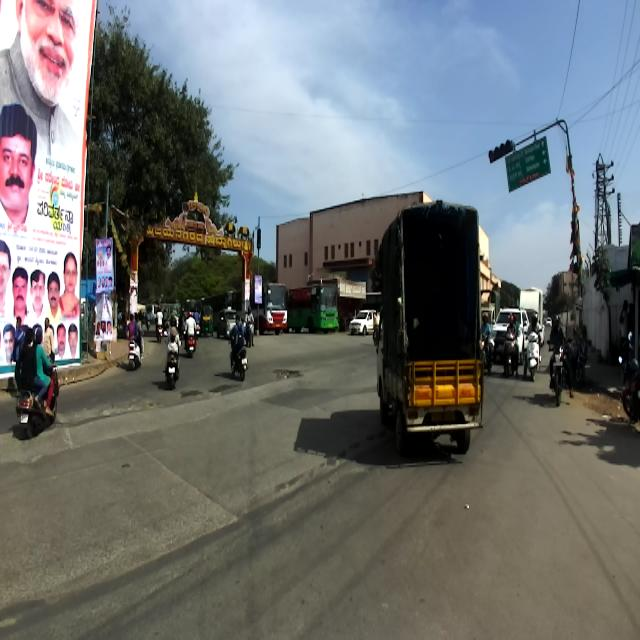motorcycle ahead at: (14, 373, 61, 435)
traffic signal ahead at: (481, 120, 579, 171)
truck ahead at: (374, 198, 491, 449)
